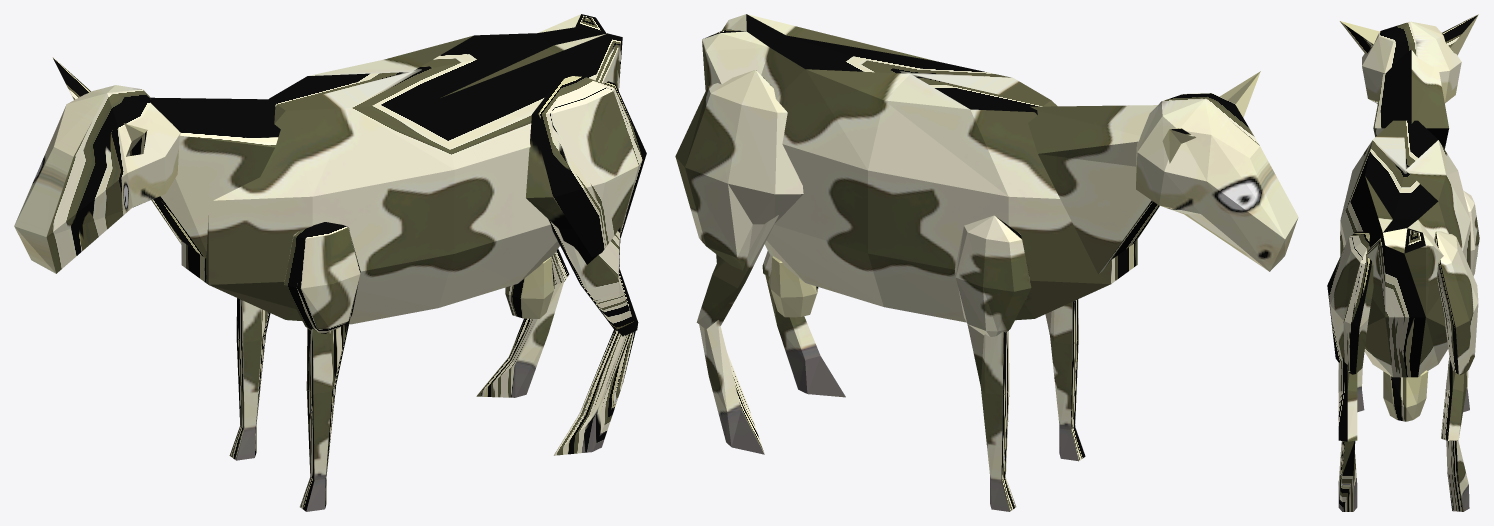
File: Cow.glb
3 renders of one model, left to right at view 1: azimuth 30°, elevation 25°; view 2: azimuth 150°, elevation 25°; view 3: azimuth 270°, elevation 25°, orthographic. The views are drawn at different scales.
Visible parts, largest first — view 1: Cow; view 2: Cow; view 3: Cow.
Boxes of the visible parts, x1,y1,x2,y2 form: Cow: (14,14,646,511); Cow: (675,14,1298,511); Cow: (1327,14,1479,511).
Size of the model in its own units: 273 by 192 by 80.48.
1 material, 1 textured.
